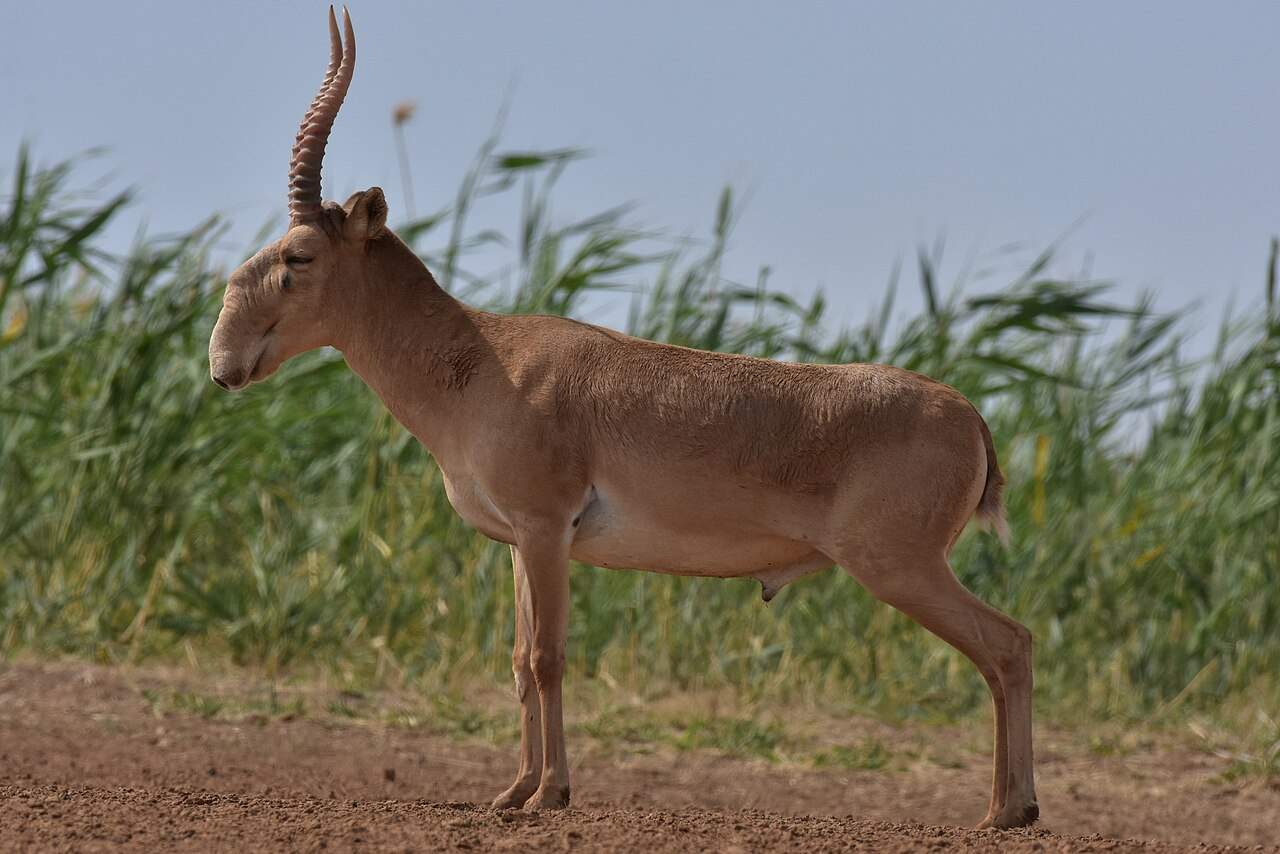saiga: (212, 4, 1053, 832)
